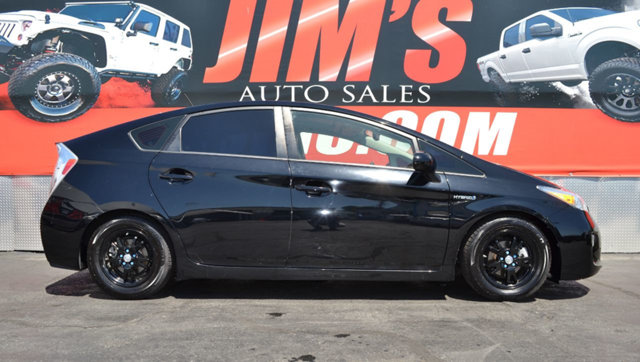Toyota Prius: (37, 98, 604, 304)
